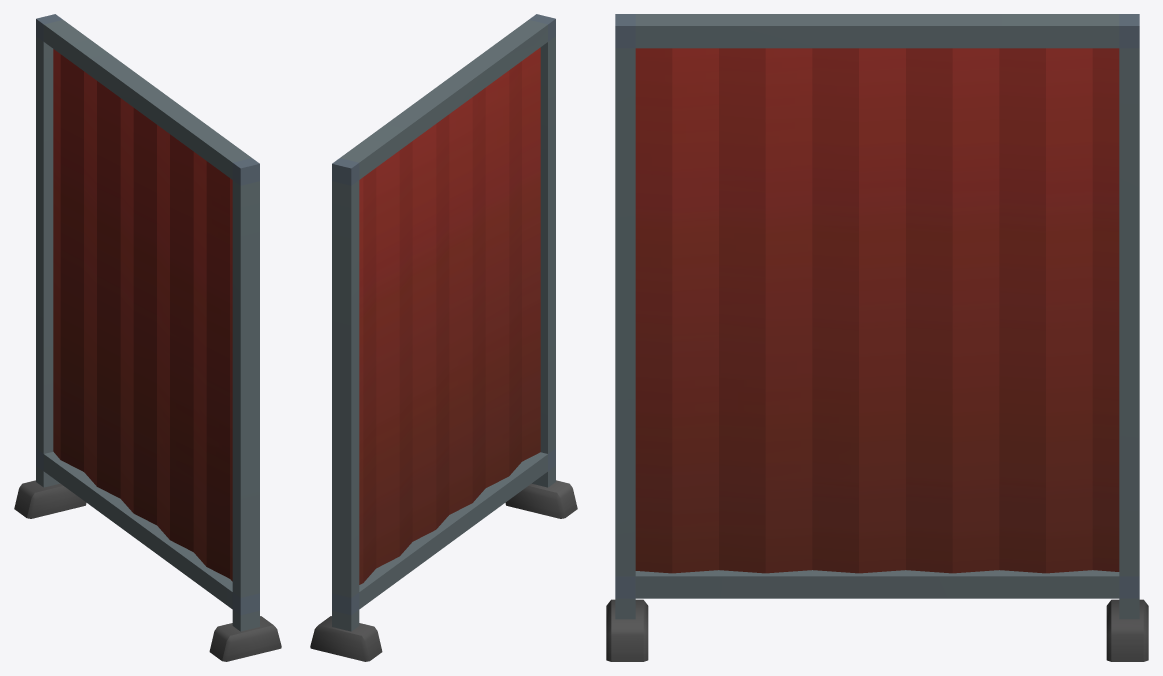
The model's file is Barier_2_6.fbx.
3 views of the same model, side by side, from view 1: azimuth 30°, elevation 25°; view 2: azimuth 150°, elevation 25°; view 3: azimuth 270°, elevation 25° (orthographic). The views are drawn at different scales.
Visible parts, largest first — view 1: Barier_2_6; view 2: Barier_2_6; view 3: Barier_2_6.
Part boxes in pixels (left/top/right/bottom): Barier_2_6: left=14, top=14, right=281, bottom=661; Barier_2_6: left=310, top=14, right=577, bottom=661; Barier_2_6: left=606, top=14, right=1148, bottom=661.
Size of the model in its own units: 34.35 by 268 by 211.
